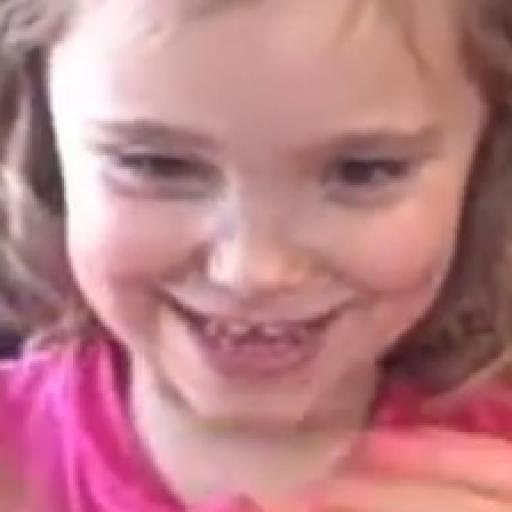Autism: (0, 0, 512, 494)
